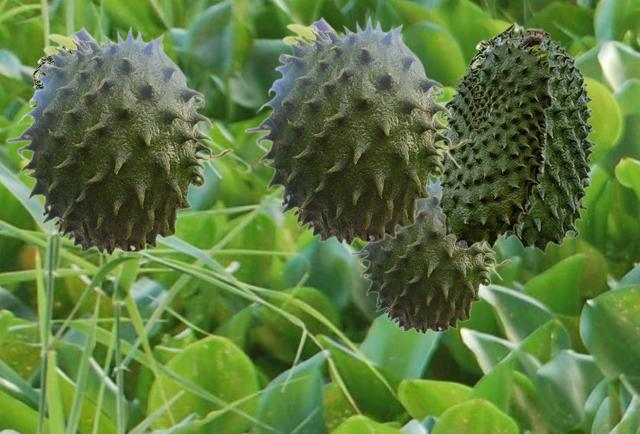guyabano: (5, 24, 233, 256), (244, 14, 472, 246), (466, 21, 596, 253), (434, 34, 553, 249), (350, 176, 510, 334)
